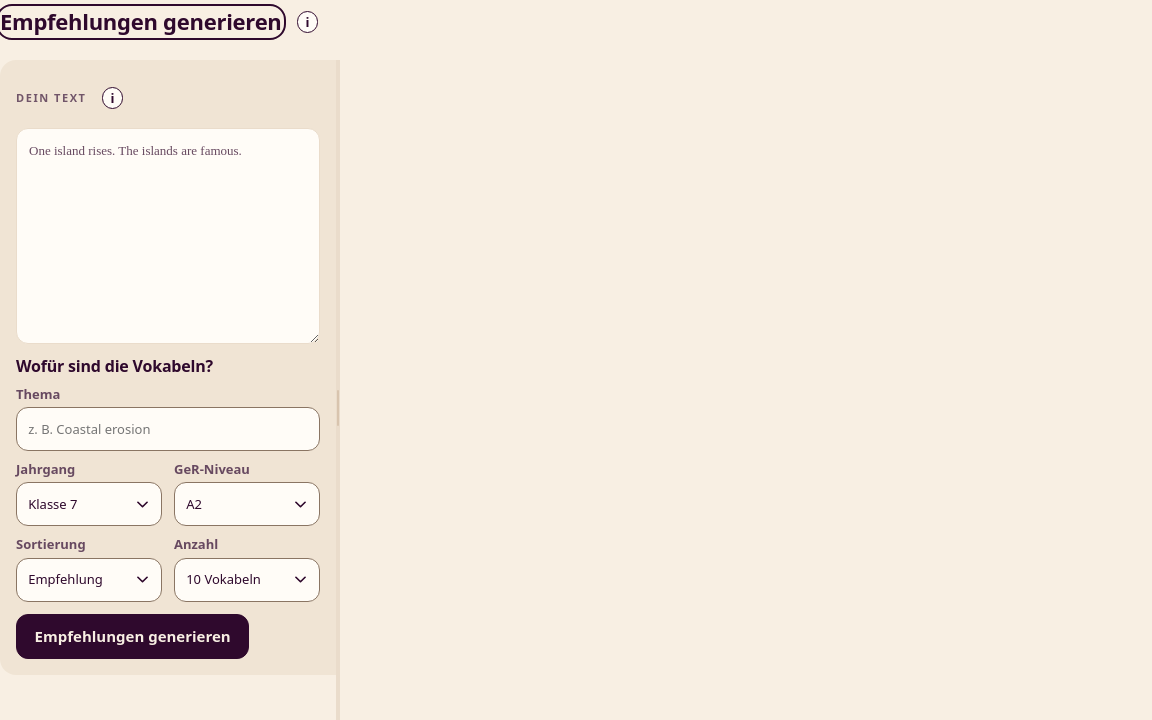
Test: Der Quelltext als Werkzeug › markiert auch die gebeugte Form
The width and height of the screenshot is (1152, 720).
Click the text "island" at (69, 150), box top-left (54, 143), bottom-right (85, 158)
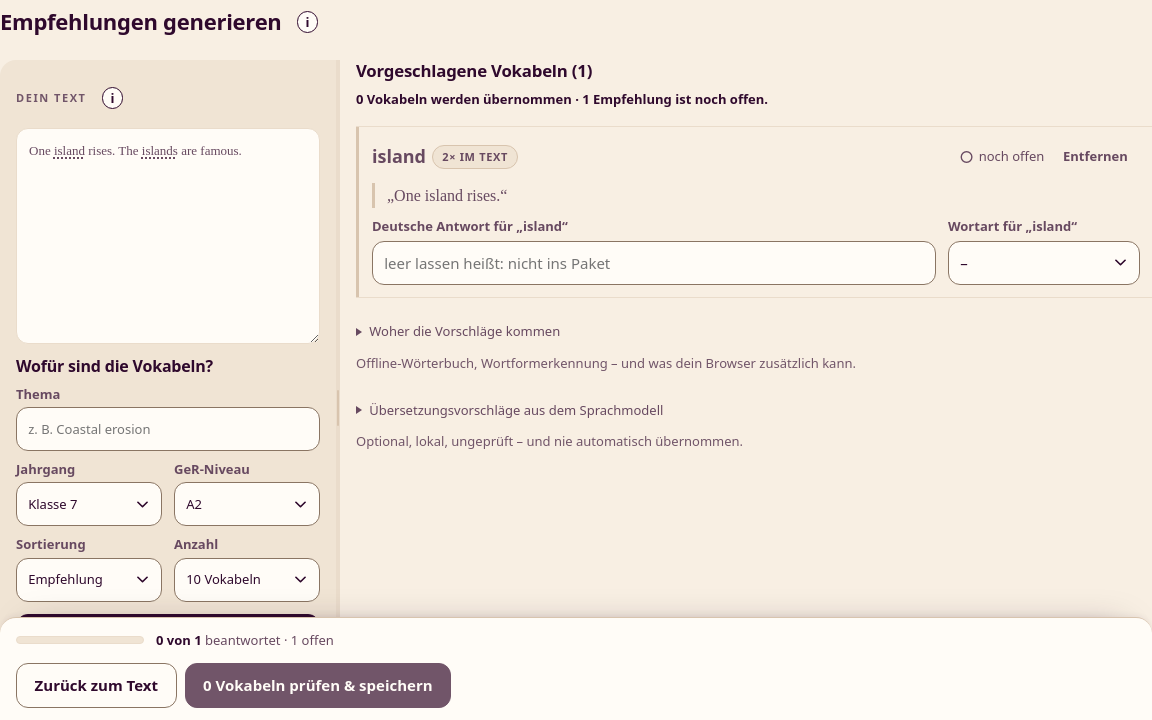
Now the field labelled "Deutsche Antwort für „island“" is shown, box top-left (372, 241), bottom-right (936, 285)
